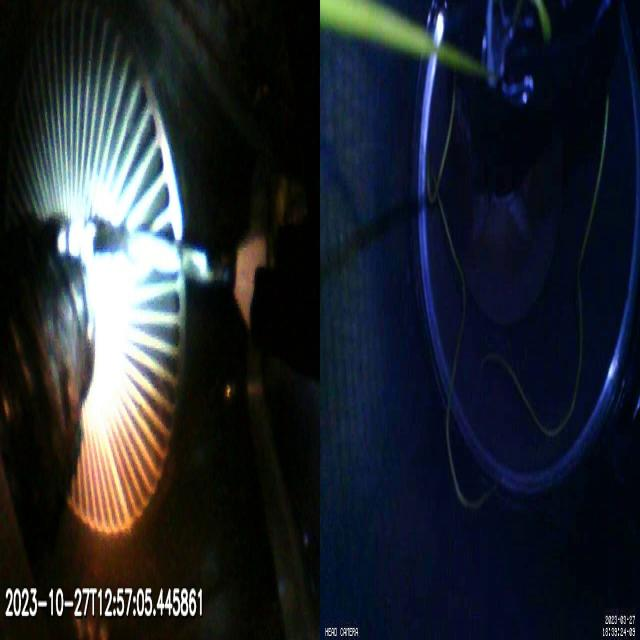head: (234, 238, 268, 324)
white-dots: (57, 216, 95, 260)
